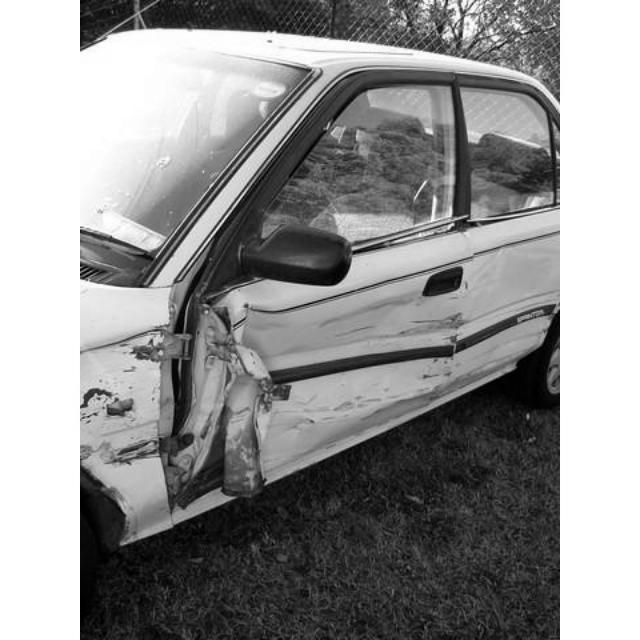doorouter-dent: (195, 248, 449, 482)
